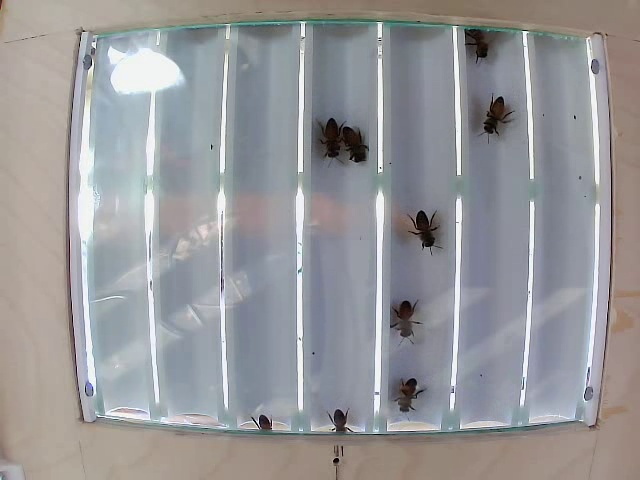bee: (386, 273, 423, 343), (461, 24, 499, 83), (312, 113, 345, 172), (340, 114, 371, 173), (391, 366, 423, 416), (490, 89, 513, 148), (419, 198, 441, 254)
